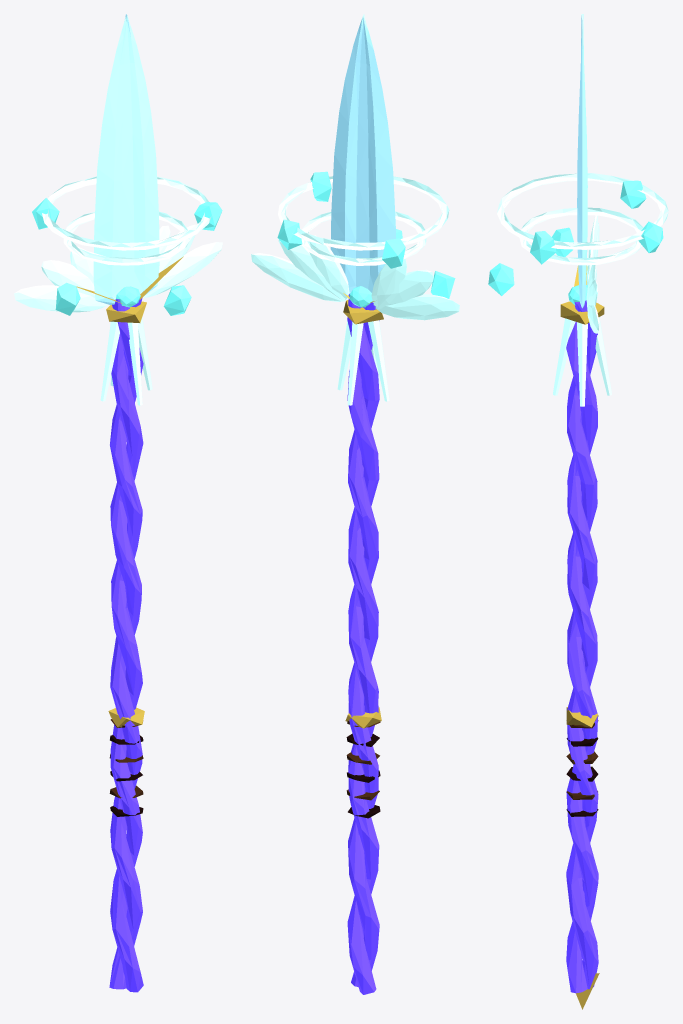
The model's file is spear_9.glb.
3 views of the same model, side by side, from view 1: azimuth 30°, elevation 25°; view 2: azimuth 150°, elevation 25°; view 3: azimuth 270°, elevation 25° (orthographic).
Visible parts, largest first — view 1: part_12, part_02, part_01, part_27, part_26, part_22, part_19, part_20, part_16, part_17, part_31, part_29 (+2 smaller); view 2: part_12, part_01, part_02, part_27, part_22, part_19, part_26, part_20, part_24, part_23, part_21, part_17 (+6 smaller); view 3: part_01, part_02, part_27, part_12, part_26, part_15, part_31, part_16, part_28, part_32, part_30, part_10 (+1 smaller).
Part boxes in pixels (x1,y1,x2,y2): part_12: (93, 14, 159, 304); part_02: (110, 299, 143, 992); part_01: (109, 298, 143, 989); part_27: (42, 176, 211, 250); part_26: (63, 211, 189, 265); part_22: (143, 242, 222, 297); part_19: (14, 285, 107, 312); part_20: (41, 260, 95, 298); part_16: (127, 322, 142, 405); part_17: (100, 321, 119, 401); part_31: (163, 285, 191, 315); part_29: (55, 282, 80, 315); part_12: (330, 14, 395, 293); part_01: (347, 293, 379, 994); part_02: (347, 302, 379, 986); part_27: (278, 176, 449, 250); part_22: (251, 253, 346, 301); part_19: (375, 294, 459, 320); part_26: (301, 211, 426, 265); part_20: (376, 269, 433, 308); part_24: (309, 235, 349, 299); part_23: (278, 240, 347, 299); part_21: (371, 259, 406, 307); part_17: (368, 320, 389, 401); part_01: (566, 300, 598, 989); part_02: (566, 322, 598, 993); part_27: (497, 173, 668, 249); part_12: (577, 14, 587, 308); part_26: (519, 207, 643, 265); part_15: (577, 322, 587, 406); part_31: (488, 263, 514, 295); part_16: (553, 318, 575, 395); part_28: (530, 231, 556, 264); part_32: (620, 180, 646, 208); part_30: (638, 221, 663, 252); part_10: (560, 301, 604, 324).
Size of the model in its own units: 0.4425 by 2.01 by 0.3307.
